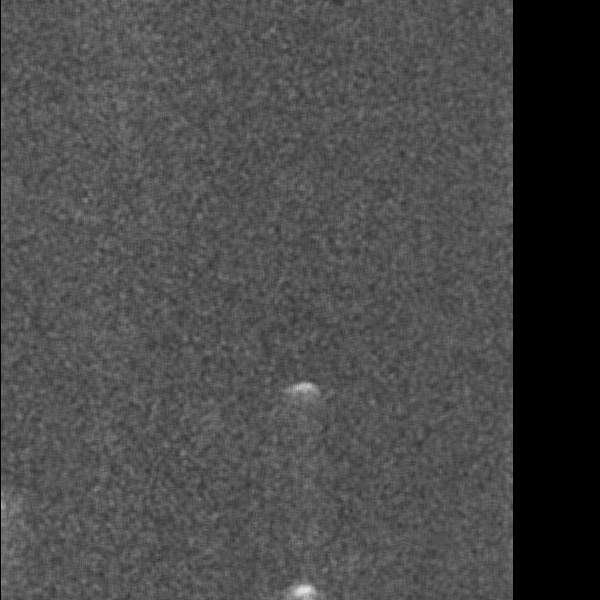spark: (57, 321, 92, 369)
